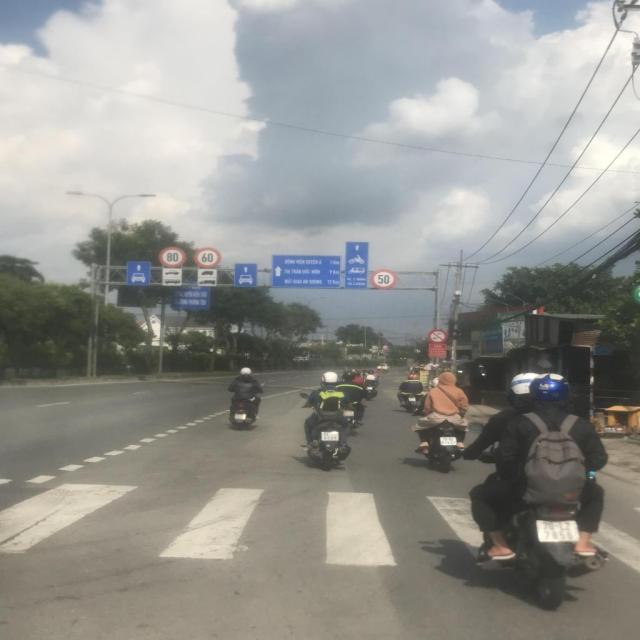cam_cac_loai_xe_3_banh: (428, 329, 448, 344)
cam_dung_xe_va_do_xe: (383, 340, 388, 344)
cam_xe_2_banh_va_xe_3_banh_co_dong_co: (383, 346, 389, 350)
duong_cho_xe_o_to: (127, 262, 150, 285), (235, 264, 257, 287)
khac: (271, 255, 341, 288), (345, 242, 368, 288), (162, 277, 182, 286), (197, 269, 217, 278), (162, 268, 181, 277), (197, 278, 217, 286)
toc_do_toi_da_50: (370, 269, 397, 290)
toc_do_toi_da_60: (194, 248, 221, 268)
toc_do_toi_da_80: (159, 247, 186, 268)
